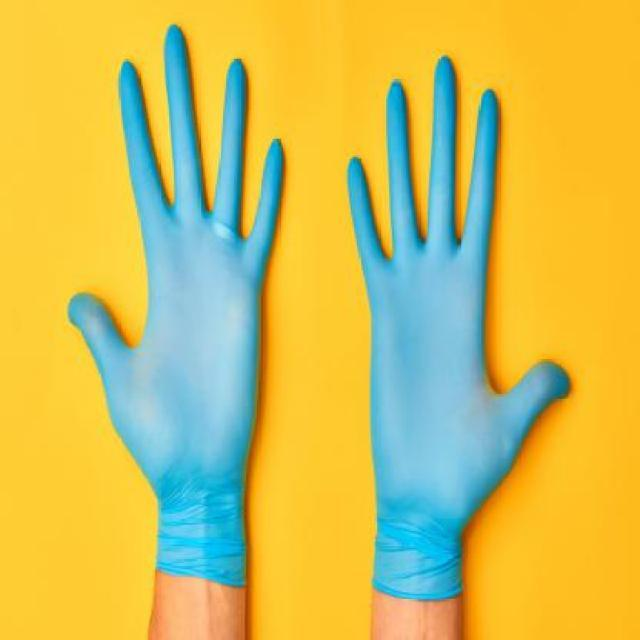gloved_hand: (327, 27, 576, 598), (65, 16, 302, 590)
